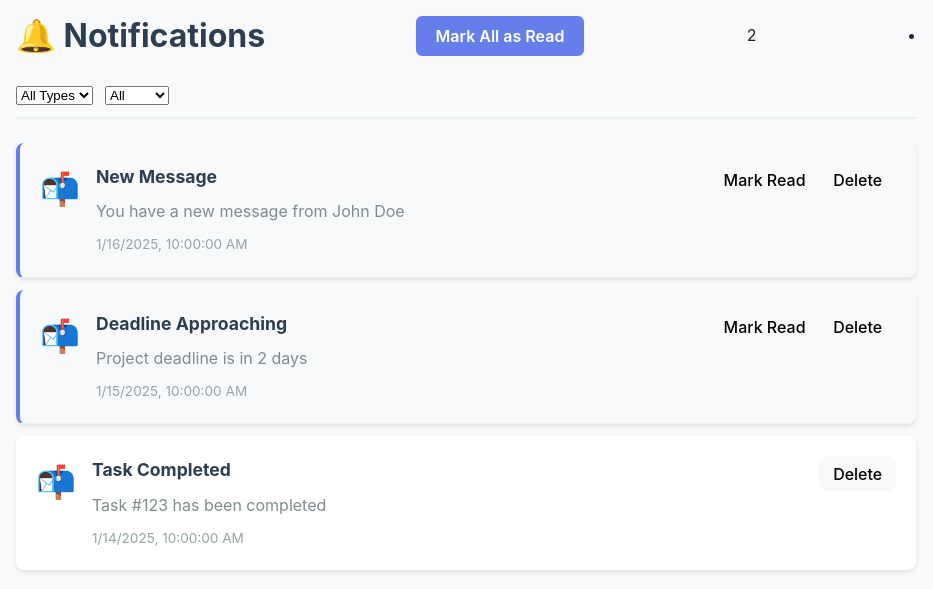
it: NotificationCenter Component › Filtering › should filter notifications by read status
Step 1. Select "unread" in the dropdown with test id "status-filter" → (137, 96), box x1=105 y1=86 x2=169 y2=105
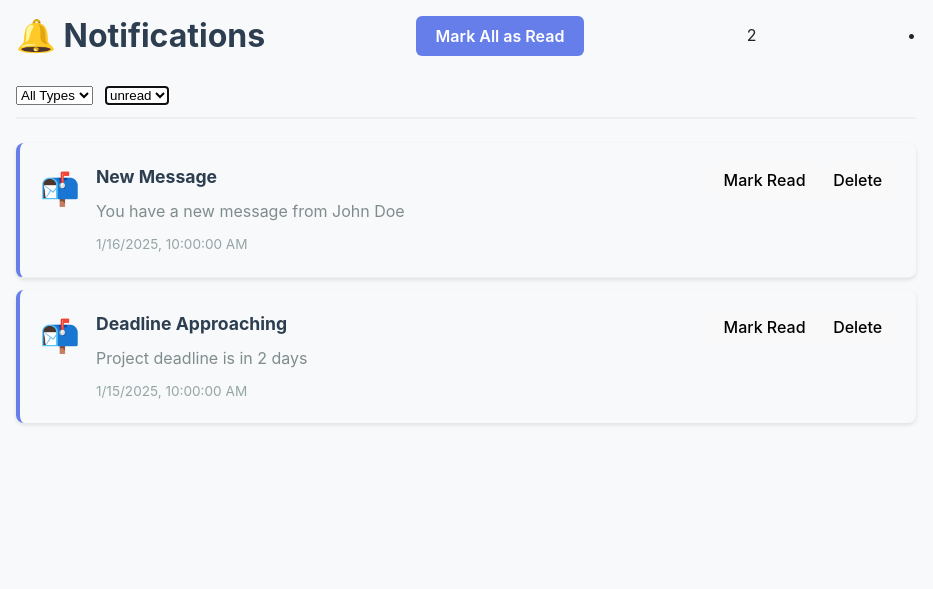
Check: the heading "New Message" is shown, box x1=96 y1=166 x2=217 y2=187
Check: the heading "Task Completed" is gone
